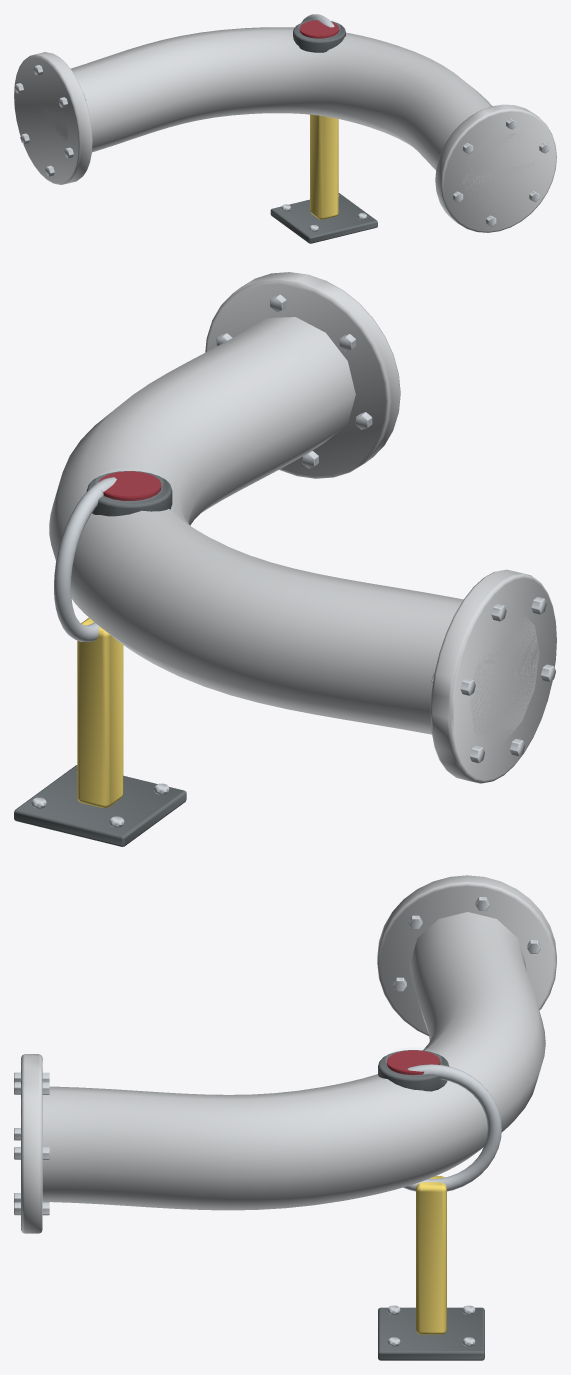
Rendered from tuberia_curva.glb.
3 renders of one model, top to bottom at view 1: azimuth 30°, elevation 25°; view 2: azimuth 150°, elevation 25°; view 3: azimuth 270°, elevation 25°, orthographic. The views are drawn at different scales.
Visible parts, largest first — view 1: codo, brida_b, brida_a, pie_poste, pie_placa, ojo_marco, ojo_vidrio, sangre; view 2: codo, brida_a, brida_b, pie_poste, pie_placa, pie_abrazadera, ojo_vidrio, ojo_marco, sangre; view 3: codo, brida_a, pie_poste, pie_placa, brida_b, pie_abrazadera, ojo_marco, ojo_vidrio, sangre.
Boxes of the visible parts, box(x1,y1,x2,y2) form: codo: box(39, 27, 536, 208); brida_b: box(435, 104, 556, 232); brida_a: box(14, 52, 92, 184); pie_poste: box(310, 114, 338, 219); pie_placa: box(270, 193, 377, 243); ojo_marco: box(293, 20, 345, 52); ojo_vidrio: box(299, 18, 339, 38); sangre: box(299, 20, 339, 38); codo: box(49, 317, 539, 743); brida_a: box(430, 569, 556, 783); brida_b: box(205, 272, 400, 478); pie_poste: box(77, 618, 123, 807); pie_placa: box(14, 765, 186, 846); pie_abrazadera: box(54, 477, 116, 641); ojo_vidrio: box(96, 468, 162, 501); ojo_marco: box(86, 471, 172, 516); sangre: box(98, 471, 161, 500); codo: box(42, 912, 545, 1210); brida_a: box(377, 875, 556, 1036); pie_poste: box(416, 1176, 446, 1334); pie_placa: box(378, 1307, 484, 1360); brida_b: box(21, 1054, 42, 1233); pie_abrazadera: box(403, 1064, 501, 1191); ojo_marco: box(378, 1050, 449, 1091); ojo_vidrio: box(385, 1047, 441, 1075); sangre: box(387, 1050, 440, 1075).
Size of the model in its own units: 0.6088 by 0.3607 by 0.6088.
